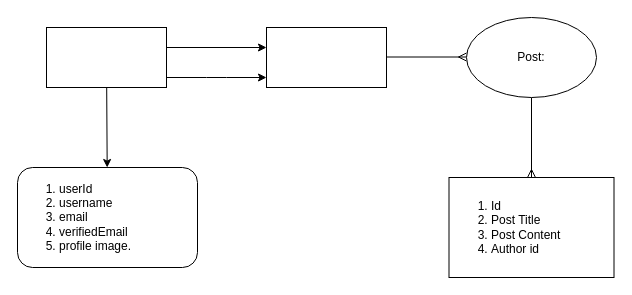
This 632x295 diagram has some shape labels left out. Here are the shapes that lost their labels. From the top down, the centre of each, then its label:
(106,57): User Object
(326,57): Posts by Uset
